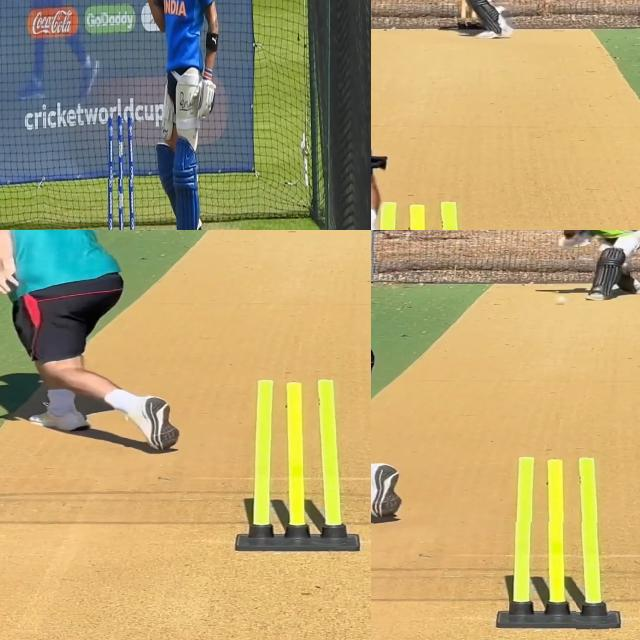Cricket ball: (552, 293, 570, 306)
Stumps: (237, 376, 349, 553), (509, 454, 610, 630), (106, 111, 139, 230)
